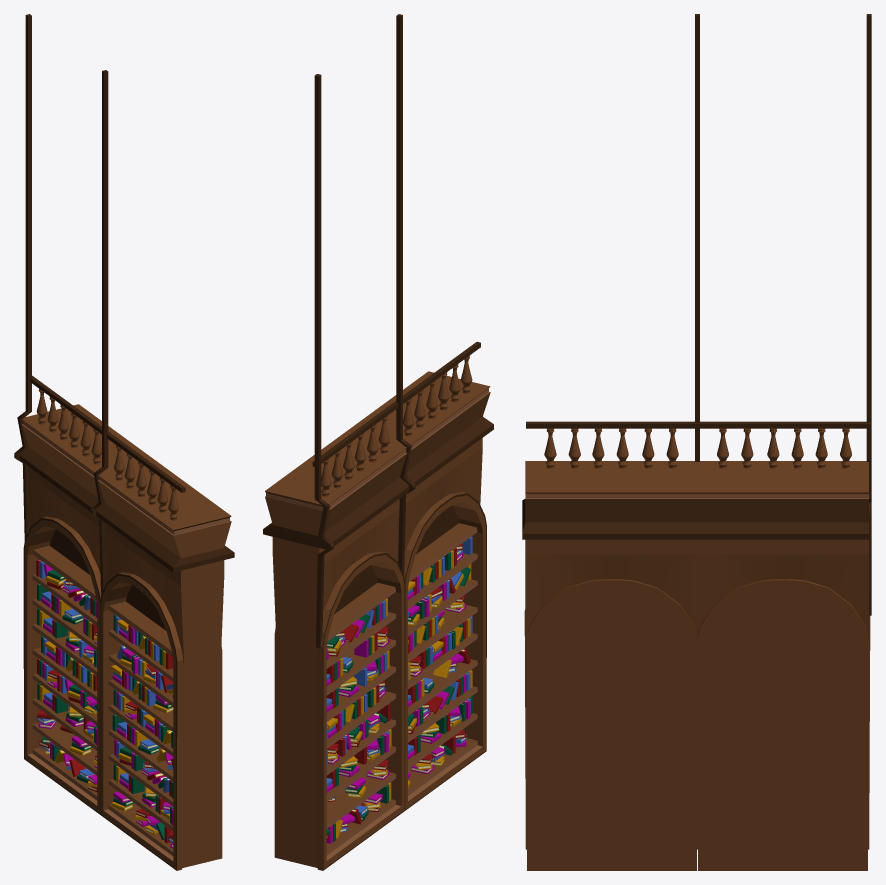
The model's file is 2_3 boekenmuur fixed.fbx.
3 renders of one model, left to right at view 1: azimuth 30°, elevation 25°; view 2: azimuth 150°, elevation 25°; view 3: azimuth 270°, elevation 25°, orthographic. The views are drawn at different scales.
Visible parts, largest first — view 1: main_closet1, books1, fence_and_wire_detail1; view 2: main_closet1, books1, fence_and_wire_detail1; view 3: main_closet1, fence_and_wire_detail1.
Boxes of the visible parts, left/top/right/bottom form: main_closet1: left=20, top=404, right=234, bottom=870; books1: left=36, top=559, right=173, bottom=847; fence_and_wire_detail1: left=14, top=14, right=185, bottom=593; main_closet1: left=263, top=371, right=493, bottom=870; books1: left=326, top=536, right=472, bottom=843; fence_and_wire_detail1: left=312, top=14, right=480, bottom=648; main_closet1: left=522, top=461, right=870, bottom=870; fence_and_wire_detail1: left=526, top=14, right=871, bottom=615.
Size of the model in its own units: 2.9 by 31.74 by 12.05.
